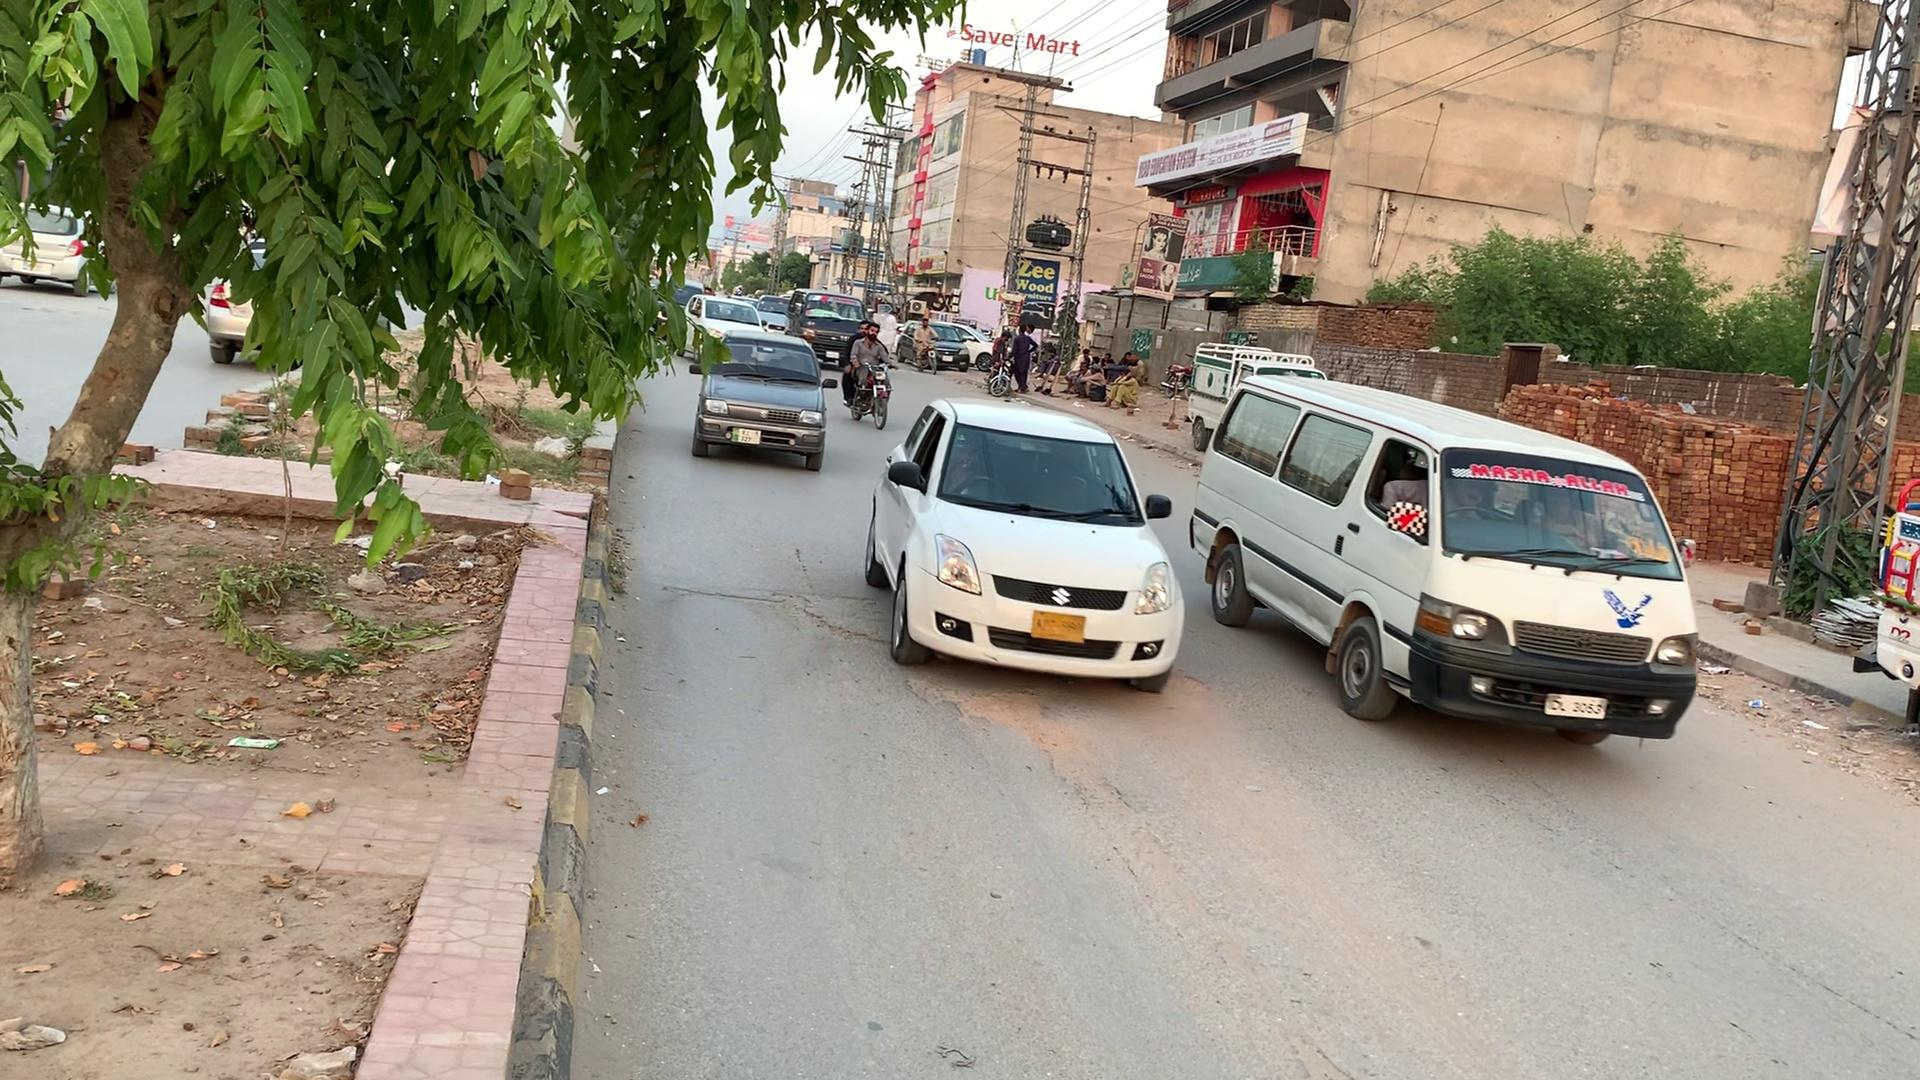windshield: (1437, 436, 1685, 582), (932, 413, 1149, 533)
